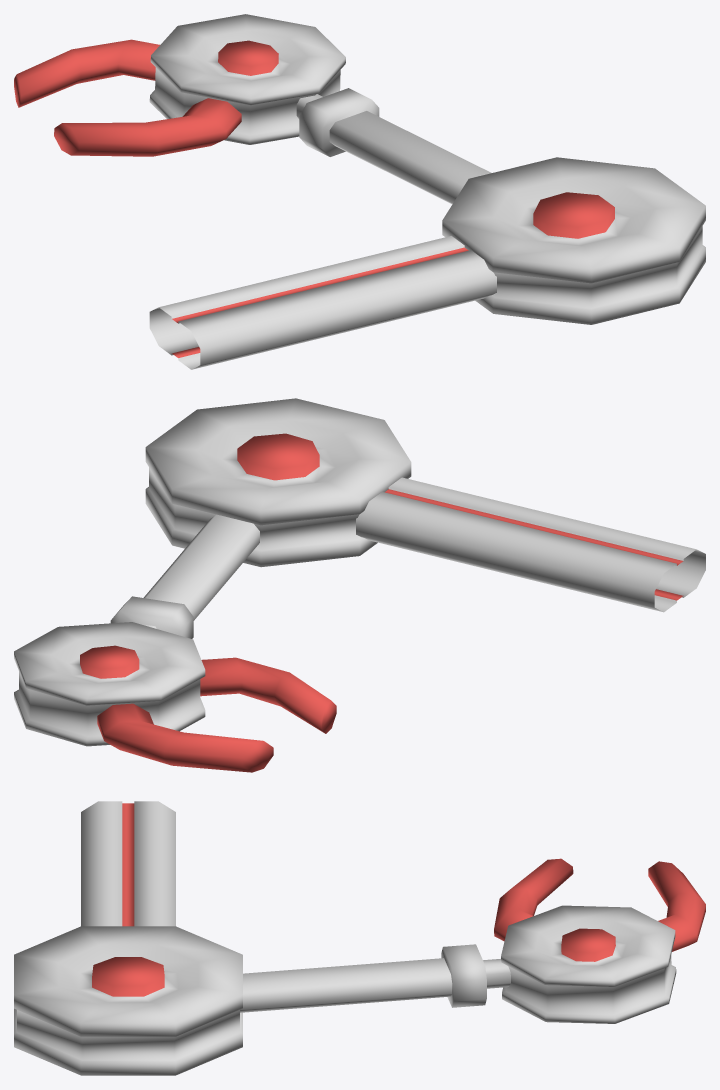
The model's file is roboarm.fbx.
3 views of the same model, one above another, from view 1: azimuth 30°, elevation 25°; view 2: azimuth 150°, elevation 25°; view 3: azimuth 270°, elevation 25° (orthographic). The views are drawn at different scales.
Visible parts, largest first — view 1: Circle.002; view 2: Circle.002; view 3: Circle.002.
Part boxes in pixels (bbox=[...]): Circle.002: bbox=[14, 14, 705, 369]; Circle.002: bbox=[14, 398, 705, 772]; Circle.002: bbox=[14, 801, 705, 1075].
Size of the model in its own units: 439 by 53.1 by 559.
